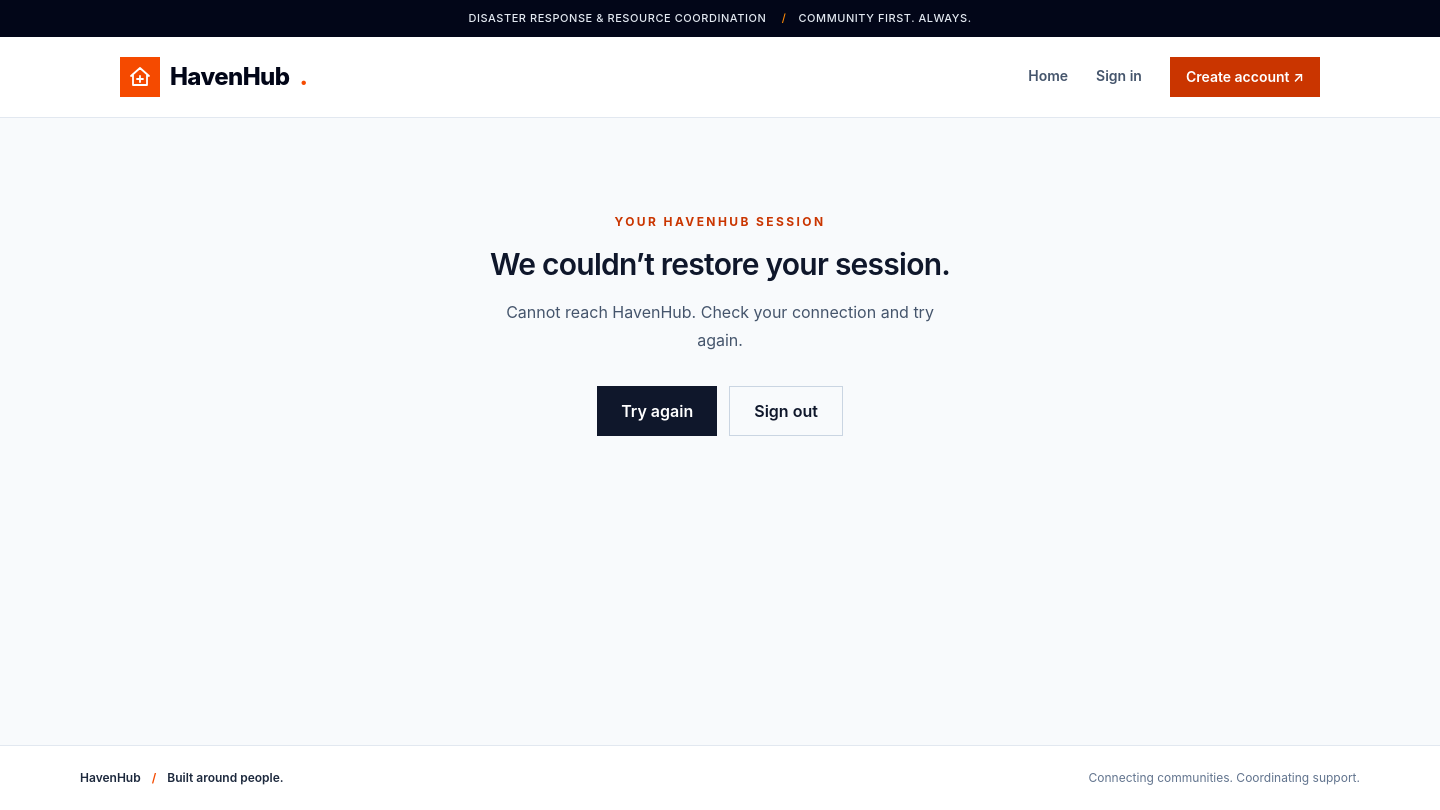
keeps a saved token on network failure and restores the session after retry
The image size is (1440, 810).
Check: the heading "We couldn’t restore your session." is shown, box top-left (488, 246), bottom-right (952, 282)
Click the button "Try again".
click(657, 410)  # box top-left (597, 386), bottom-right (717, 436)
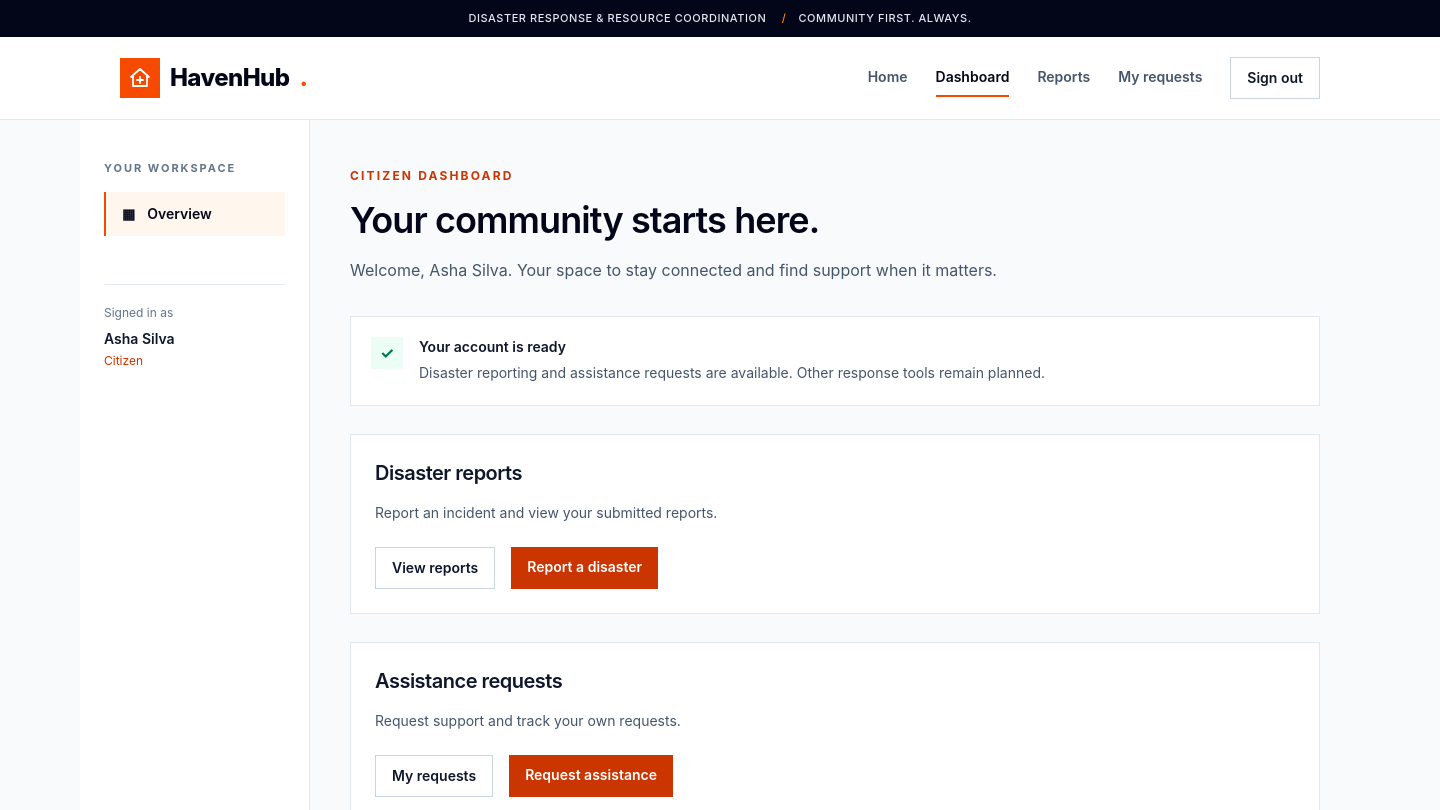
Check: the heading "Your community starts here." is shown, box top-left (350, 198), bottom-right (819, 242)
